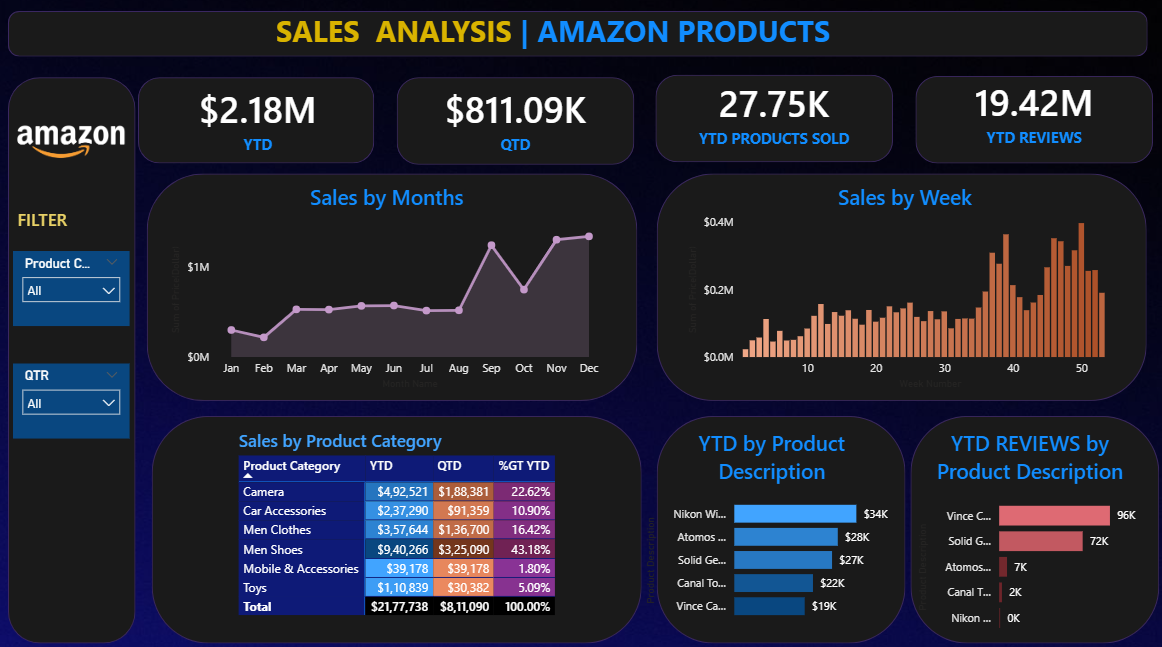

The dashboard page shown, as its layout file describes it:
{"tool":"powerbi","page":{"name":"Page 1","canvas":[1280,720],"ordinal":0},"visuals":[{"type":"shape","box":[11,16.5,1251,50],"z":0},{"type":"textbox","box":[285.4,11,706.7,111.1],"z":1000},{"type":"shape","box":[11,89.2,140,621.6],"z":2000},{"type":"shape","box":[153.7,89.2,259.3,94.7],"z":3000},{"type":"card","fields":{"Values":["Amazon_Data.YTD"]},"box":[185.2,74.1,200.3,120.8],"z":4000},{"type":"shape","box":[437.2,89.2,260.7,96.1],"z":5000},{"type":"shape","box":[722.1,86.4,260.7,96.1],"z":6000},{"type":"shape","box":[1006.9,87.8,260.7,96.1],"z":7000},{"type":"card","fields":{"Values":["Amazon_Data.QTD"]},"box":[467.9,74.1,200.3,120.8],"z":8000},{"type":"card","fields":{"Values":["Amazon_Data.YTD PRODUCTS SOLD"]},"box":[752,67.2,200.3,120.8],"z":9000},{"type":"card","fields":{"Values":["Amazon_Data.YTD REVIEWS"]},"box":[1036,65.9,203.1,120.8],"z":10000},{"type":"shape","box":[163.9,195.1,538.5,249.8],"z":11000},{"type":"areaChart","title":"Sales by Months","fields":{"Category":["Date table.Month Name"],"Y":["Amazon_Data.Price(Dollar)"]},"box":[185.2,204.5,483,231.9],"z":12000},{"type":"shape","box":[723.2,194.9,537.9,249.7],"z":13000},{"type":"columnChart","title":"Sales by Week","fields":{"Category":["Date table.Week Number"],"Y":["Amazon_Data.Price(Dollar)"]},"box":[752,204.5,487.1,231.9],"z":14000},{"type":"shape","box":[168.8,461.1,537.9,249.7],"z":15000},{"type":"pivotTable","title":"Sales by Product Category","fields":{"Rows":["Amazon_Data.Product Category"],"Values":["Amazon_Data.YTD1","Amazon_Data.QTD","Amazon_Data.YTD"]},"box":[259.3,474.8,397.9,220.9],"z":16000},{"type":"shape","box":[723.2,461.1,273.1,249.7],"z":17000},{"type":"shape","box":[1001.7,461.1,273.1,249.7],"z":18000},{"type":"clusteredBarChart","fields":{"Category":["Amazon_Data.Product Description"],"Y":["Amazon_Data.YTD"]},"box":[706.7,474.8,285.4,220.9],"z":19000},{"type":"clusteredBarChart","fields":{"Category":["Amazon_Data.Product Description"],"Y":["Amazon_Data.YTD REVIEWS"]},"box":[1004.5,474.8,256.6,236],"z":20000},{"type":"slicer","fields":{"Values":["Amazon_Data.Product Category"]},"box":[16.5,279.9,127.6,82.3],"z":21000},{"type":"slicer","fields":{"Values":["Date table.qtr"]},"box":[16.5,403.4,127.6,82.3],"z":22000},{"type":"image","box":[16.5,98.8,129,129],"z":22001},{"type":"textbox","box":[16.5,227.8,104.3,76.8],"z":22002}]}

Visuals, with their boxes in screenshot pixels (x1, y1, x2, y2), scaled from the page's 1280x720 canvas onto the 1162x647 screenshot:
shape: x1=10 y1=15 x2=1146 y2=60
textbox: x1=259 y1=10 x2=901 y2=110
shape: x1=10 y1=80 x2=137 y2=639
shape: x1=140 y1=80 x2=375 y2=165
card - Amazon_Data.YTD: x1=168 y1=67 x2=350 y2=175
shape: x1=397 y1=80 x2=634 y2=167
shape: x1=656 y1=78 x2=892 y2=164
shape: x1=914 y1=79 x2=1151 y2=165
card - Amazon_Data.QTD: x1=425 y1=67 x2=607 y2=175
card - Amazon_Data.YTD PRODUCTS SOLD: x1=683 y1=60 x2=865 y2=169
card - Amazon_Data.YTD REVIEWS: x1=940 y1=59 x2=1125 y2=168
shape: x1=149 y1=175 x2=638 y2=400
"Sales by Months" areaChart: x1=168 y1=184 x2=607 y2=392
shape: x1=657 y1=175 x2=1145 y2=400
"Sales by Week" columnChart: x1=683 y1=184 x2=1125 y2=392
shape: x1=153 y1=414 x2=642 y2=639
"Sales by Product Category" pivotTable: x1=235 y1=427 x2=597 y2=625
shape: x1=657 y1=414 x2=904 y2=639
shape: x1=909 y1=414 x2=1157 y2=639
clusteredBarChart - Amazon_Data.Product Description x Amazon_Data.YTD: x1=642 y1=427 x2=901 y2=625
clusteredBarChart - Amazon_Data.Product Description x Amazon_Data.YTD REVIEWS: x1=912 y1=427 x2=1145 y2=639
slicer - Amazon_Data.Product Category: x1=15 y1=252 x2=131 y2=325
slicer - Date table.qtr: x1=15 y1=362 x2=131 y2=436
image: x1=15 y1=89 x2=132 y2=205
textbox: x1=15 y1=205 x2=110 y2=274
